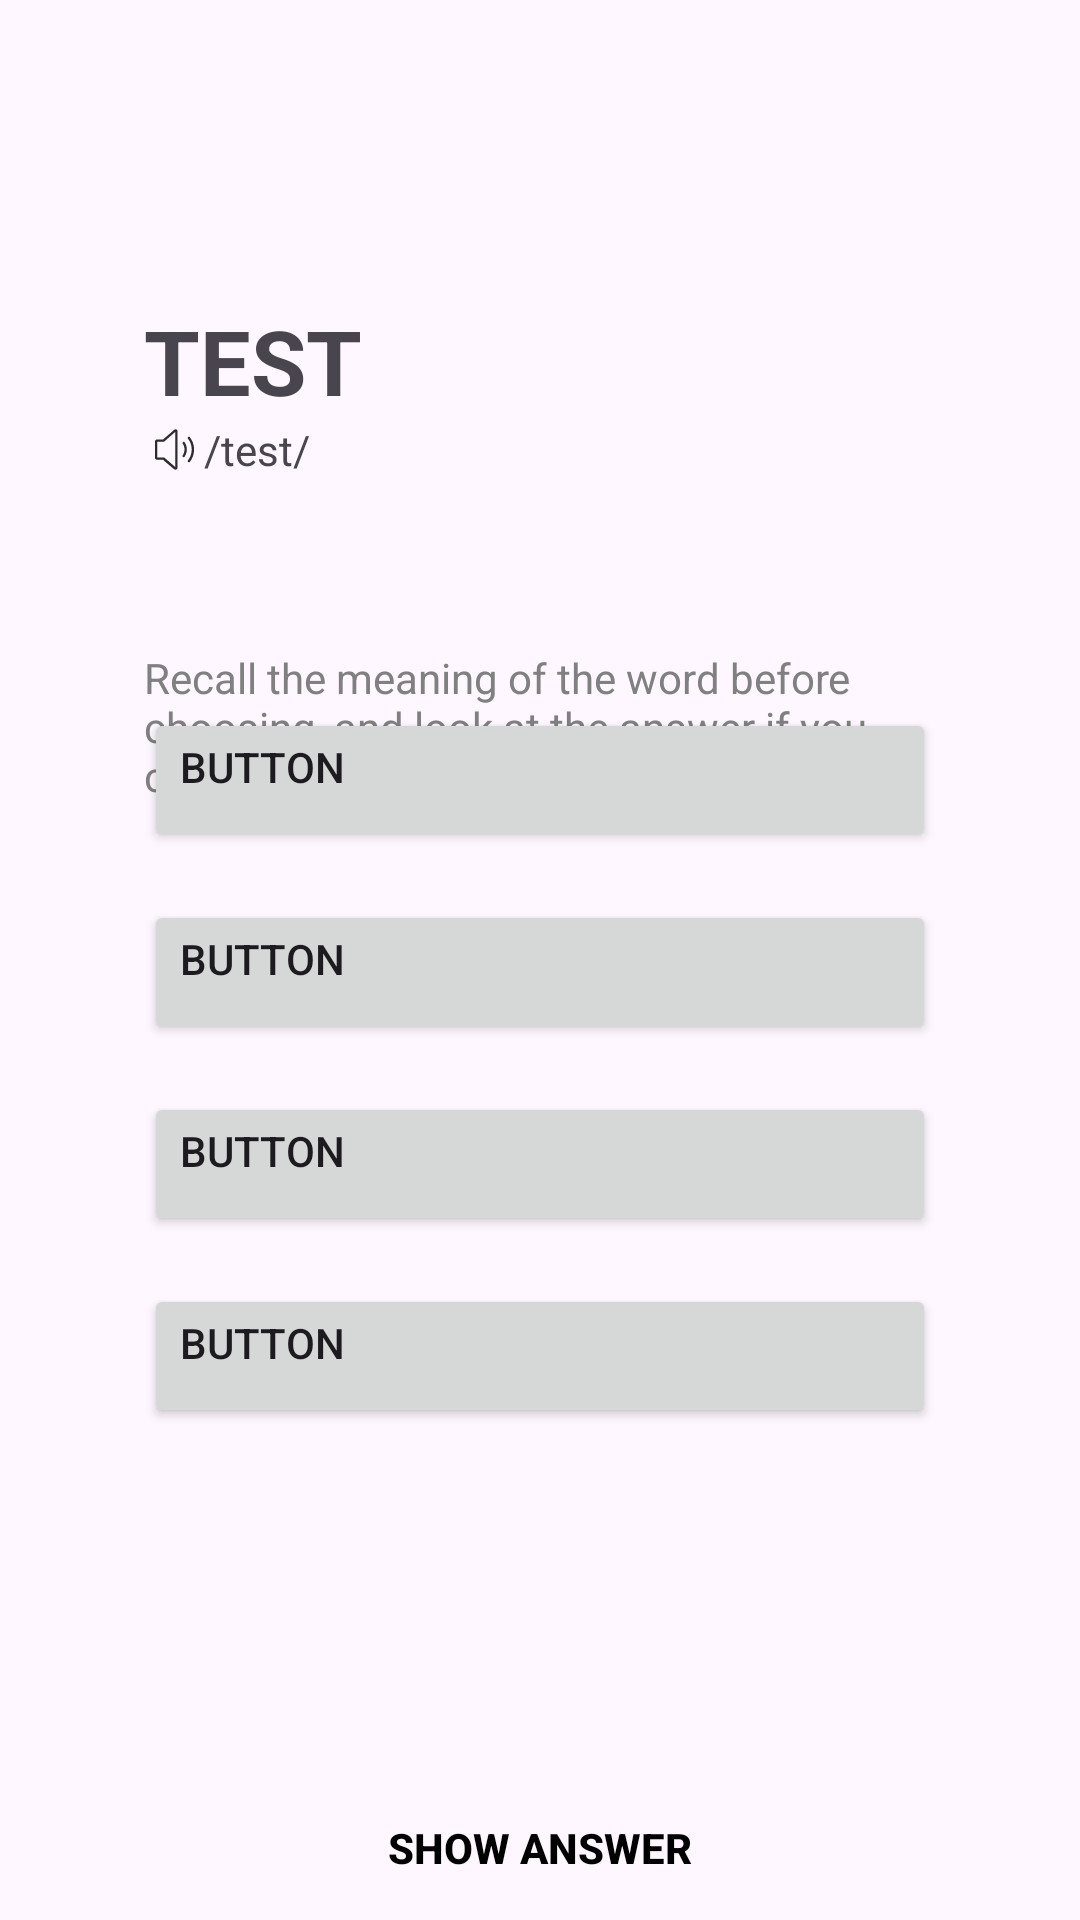

Icon click points for this 1080×1920 phone screenshot, format (x=x, y=y):
play sound: (x=174, y=449)
